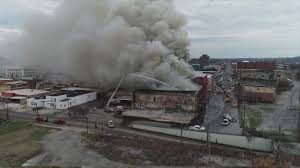smoke: (37, 1, 194, 86)
